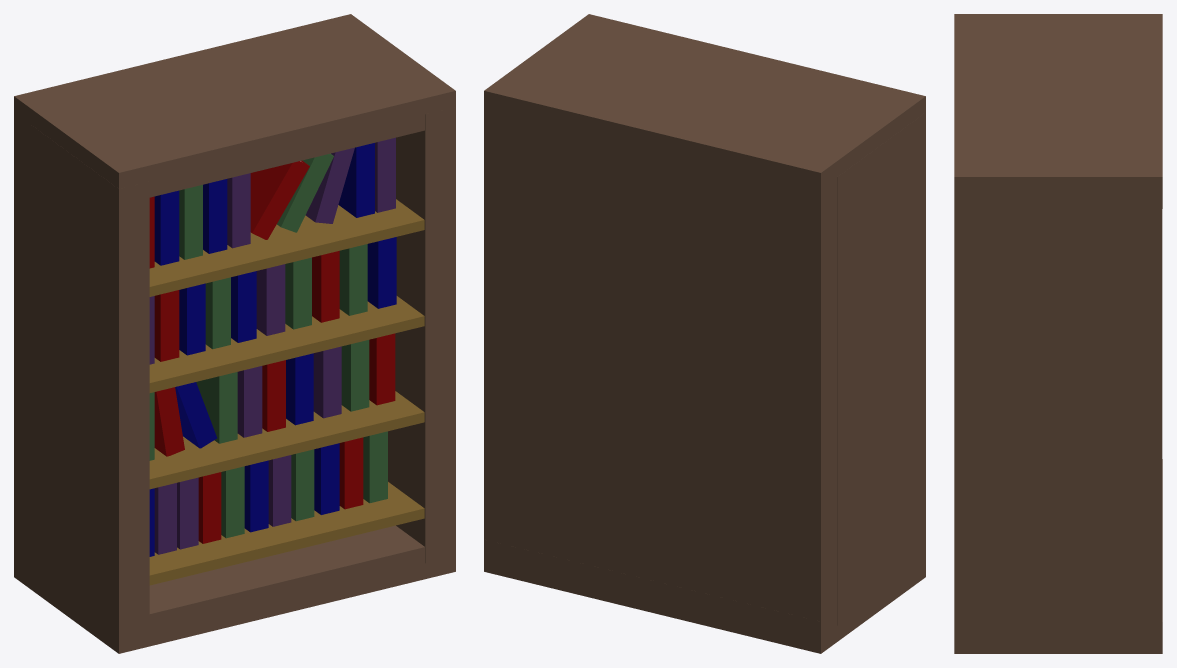
File: BookShelf Office.fbx
3 views of the same model, side by side, from view 1: azimuth 30°, elevation 25°; view 2: azimuth 150°, elevation 25°; view 3: azimuth 270°, elevation 25° (orthographic).
Visible parts, largest first — view 1: pCube146, pCube149, pCube147, pCube150, pCube151, pCube153, pCube152, pCube154, pCube148, BookRed8, BookGreen3, BookBlue8 (+34 smaller); view 2: pCube148, pCube149, pCube146, pCube150; view 3: pCube147, pCube149, pCube148, pCube150.
Boxes of the visible parts, x1,y1,x2,y2 form: pCube146: [30, 124, 149, 637]; pCube149: [14, 14, 455, 197]; pCube147: [388, 107, 455, 562]; pCube150: [14, 525, 455, 653]; pCube151: [149, 199, 424, 296]; pCube153: [149, 391, 424, 489]; pCube152: [149, 296, 424, 392]; pCube154: [149, 482, 424, 585]; pCube148: [14, 115, 30, 561]; BookRed8: [250, 160, 309, 239]; BookGreen3: [196, 372, 237, 443]; BookBlue8: [338, 143, 374, 217]; pCube148: [484, 123, 837, 637]; pCube149: [484, 14, 925, 204]; pCube146: [837, 112, 925, 625]; pCube150: [484, 539, 925, 653]; pCube147: [954, 193, 1129, 637]; pCube149: [954, 14, 1162, 208]; pCube148: [1129, 193, 1162, 637]; pCube150: [954, 459, 1162, 653].
Size of the model in its own units: 110 by 150 by 59.33.
